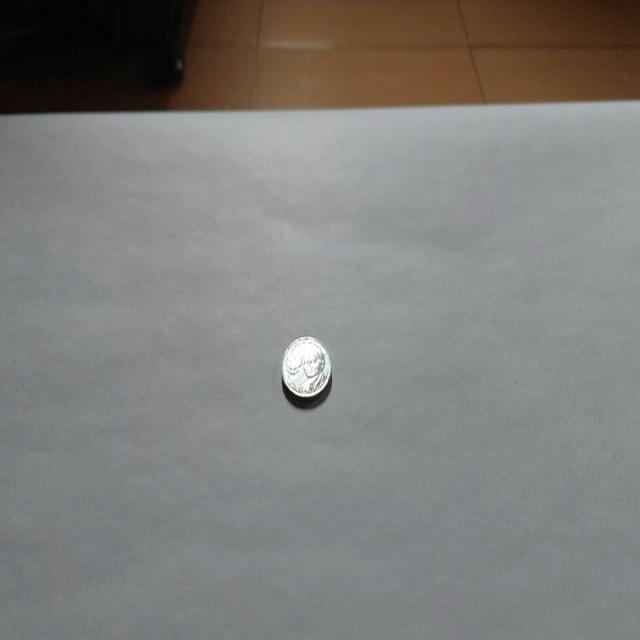lima ratus rupiah: (280, 334, 332, 404)
